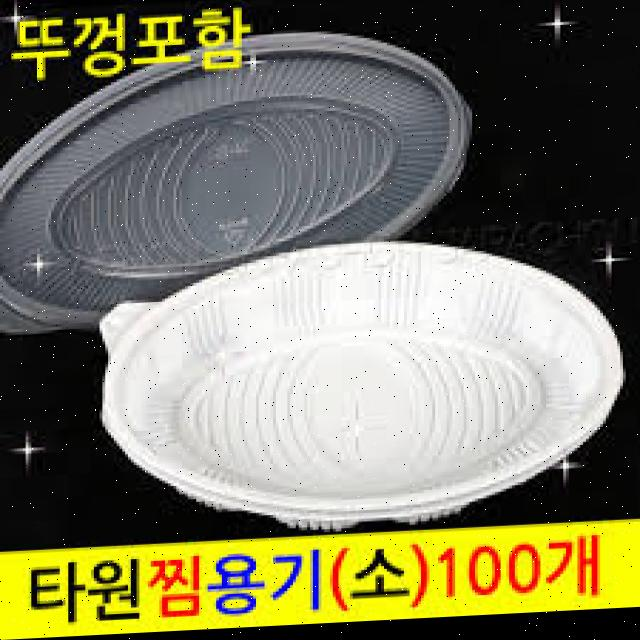disposable: (83, 215, 636, 554)
